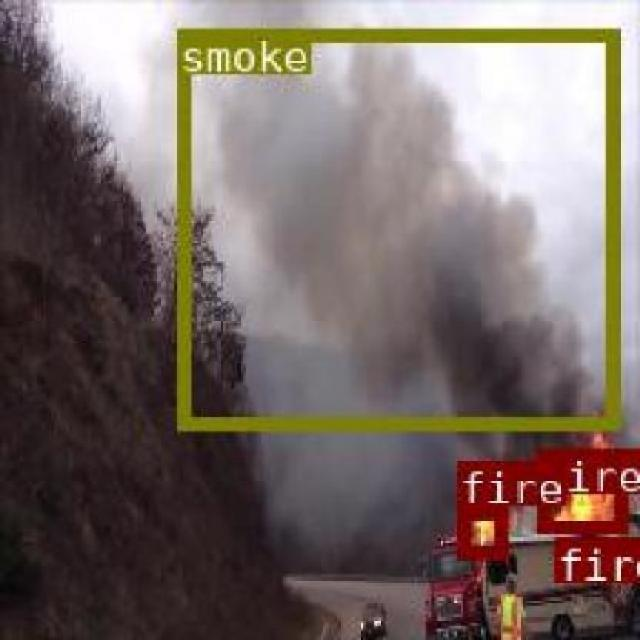Fire: (536, 447, 624, 530), (457, 504, 505, 556), (553, 534, 610, 568)
Smoke: (174, 26, 616, 428)
